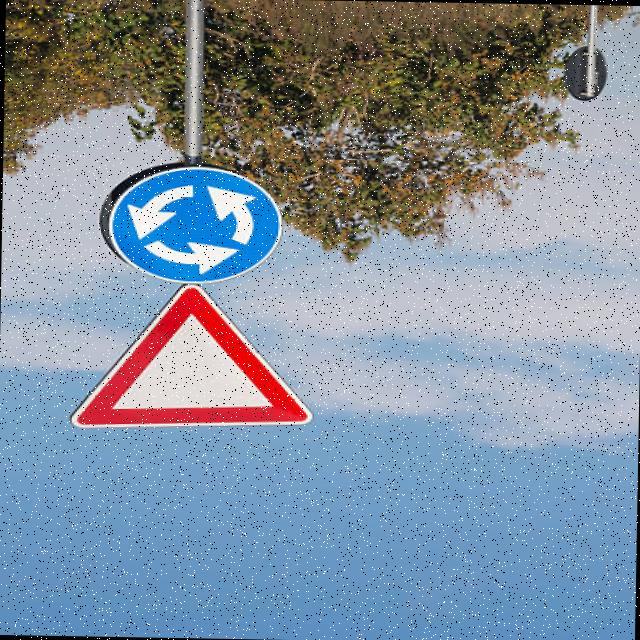give_way: (54, 280, 319, 441)
